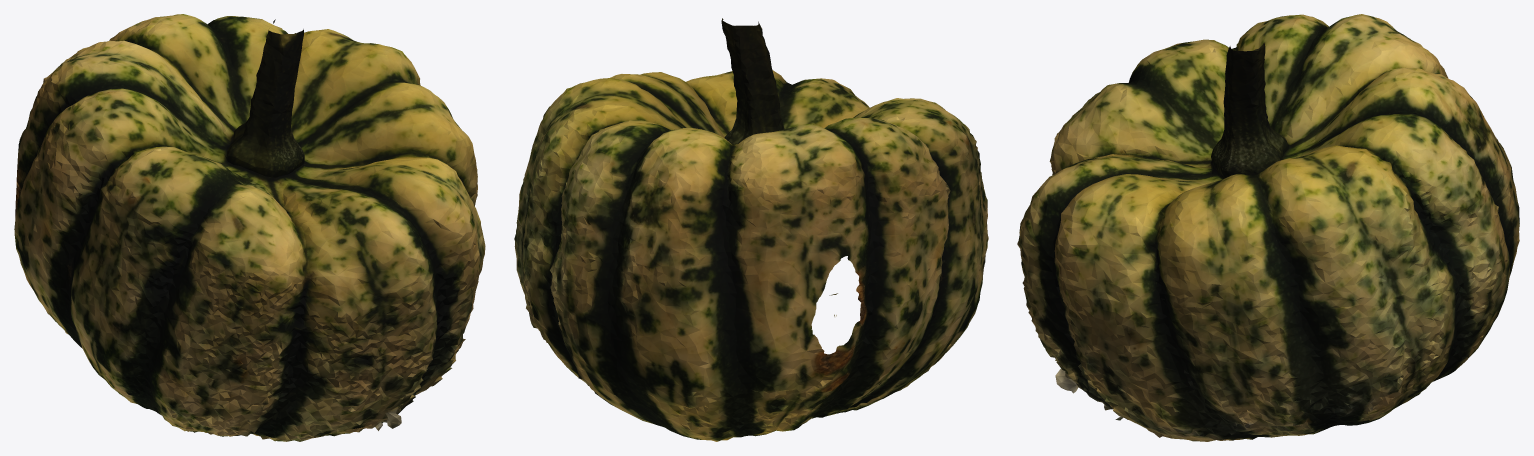
File: pumpkin1.glb
The picture shows the model from 3 angles, left to right: view 1: azimuth 30°, elevation 25°; view 2: azimuth 150°, elevation 25°; view 3: azimuth 270°, elevation 25°; orthographic projection.
Size of the model in its own units: 6.35 by 5.91 by 7.01.
Materials: 1 (1 with a texture image).
